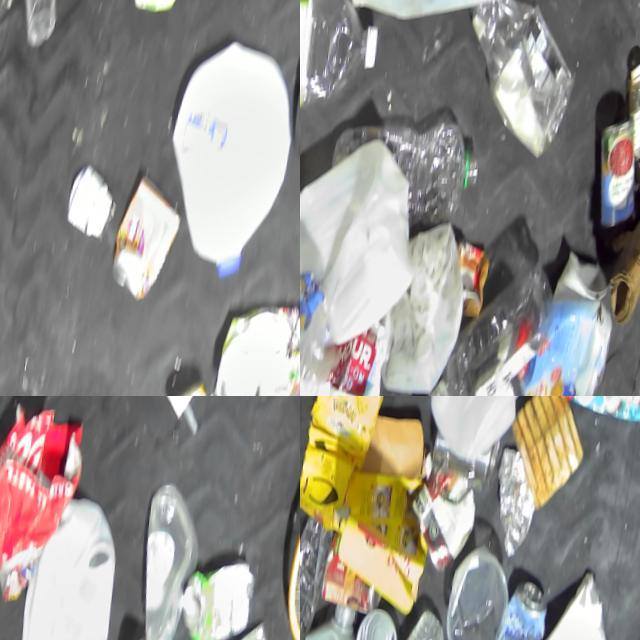can: (110, 167, 187, 319), (417, 451, 497, 580), (585, 108, 640, 229), (492, 568, 558, 640), (362, 588, 417, 640), (208, 607, 289, 640)
milk_jug: (154, 23, 300, 279), (300, 132, 430, 355), (4, 490, 131, 640), (425, 396, 584, 465)
non_white_jug: (314, 447, 444, 614), (512, 267, 624, 396), (304, 588, 374, 640)
plastic_bottle: (327, 110, 490, 220), (300, 0, 389, 116), (300, 505, 342, 637), (393, 600, 458, 640)
